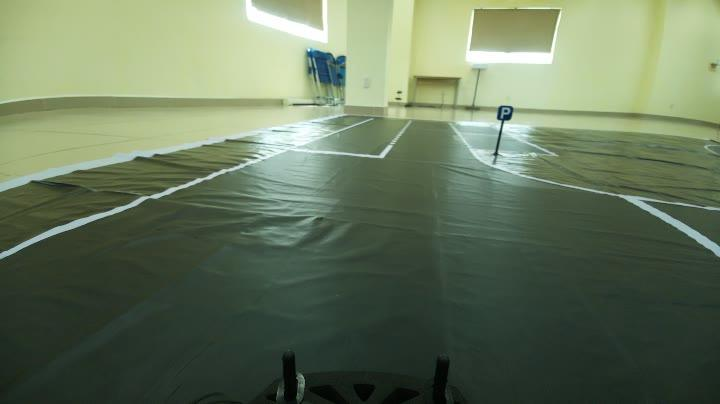parking: (492, 97, 518, 126)
